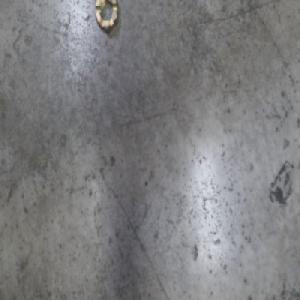Nut: (93, 0, 119, 35)
